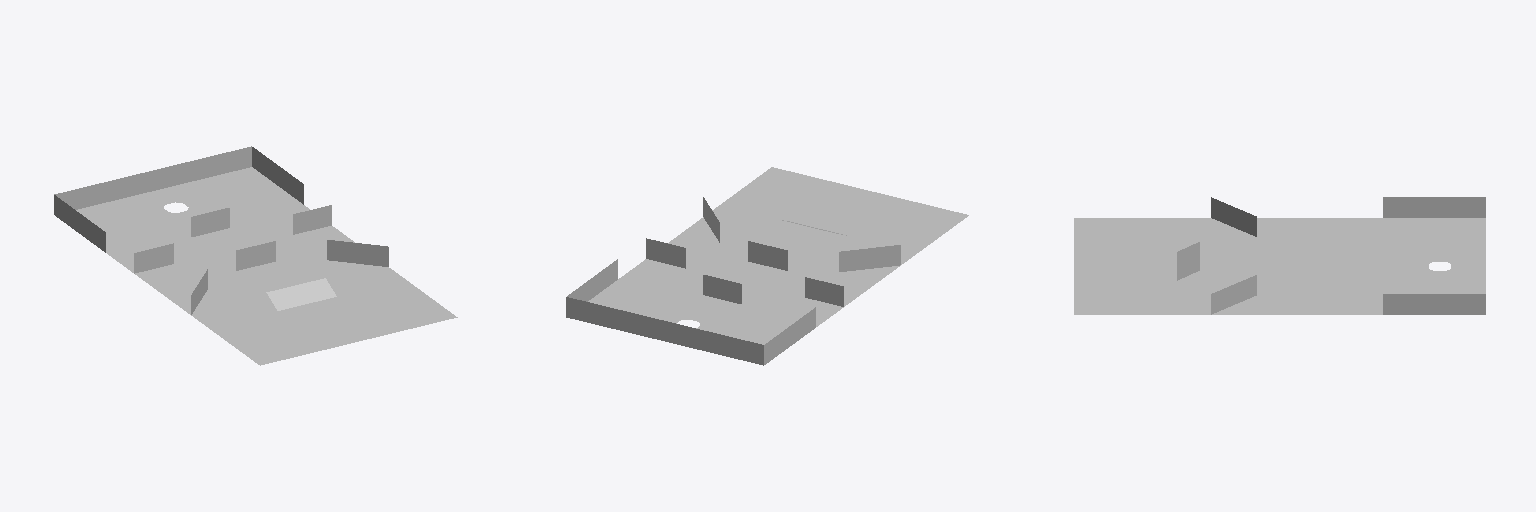
File: level_09.obj
3 views of the same model, side by side, from view 1: azimuth 30°, elevation 25°; view 2: azimuth 150°, elevation 25°; view 3: azimuth 270°, elevation 25° (orthographic).
Visible parts, largest first — view 1: Level; view 2: Level; view 3: Level.
Boxes of the visible parts, box(x1,y1,x2,y2) form: Level: box(54, 146, 457, 365); Level: box(566, 167, 968, 365); Level: box(1074, 197, 1485, 314).
Bounding box in the file's own units: 20 × 2 × 36.